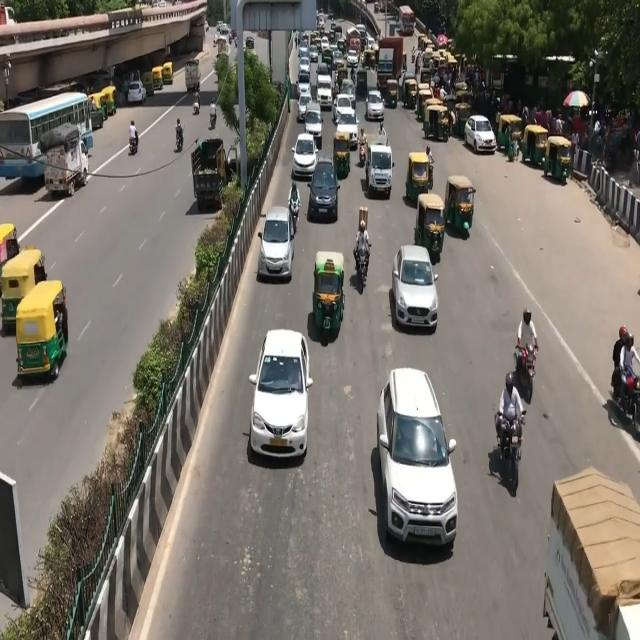Bike: (488, 363, 530, 498), (515, 330, 549, 404), (353, 214, 376, 300)
